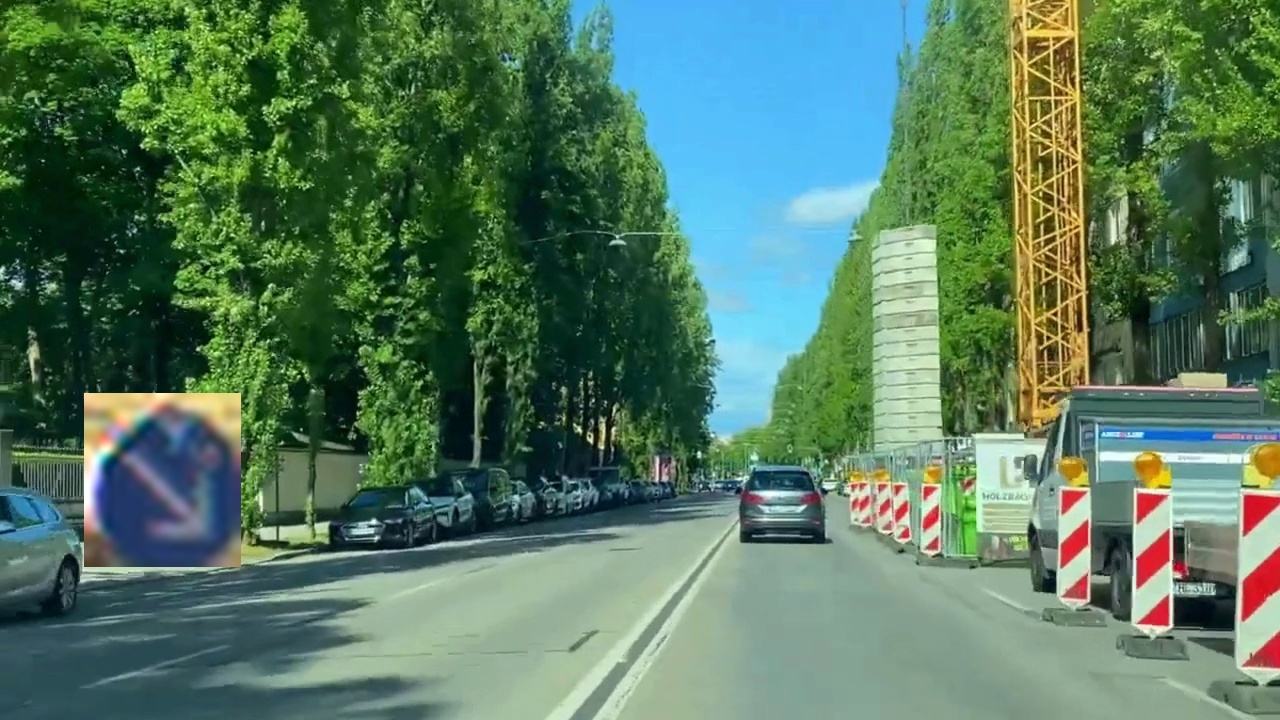Keep right: (84, 393, 241, 567)
